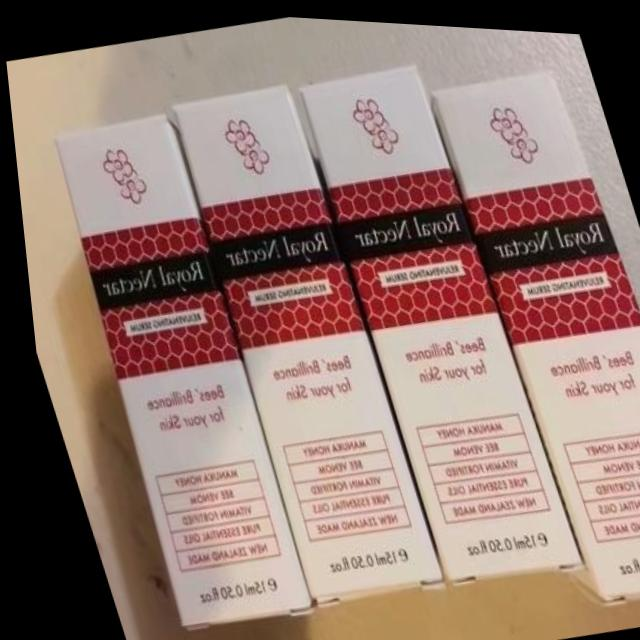box: (300, 60, 575, 581), (171, 83, 437, 605), (50, 113, 300, 631), (428, 63, 640, 600)
